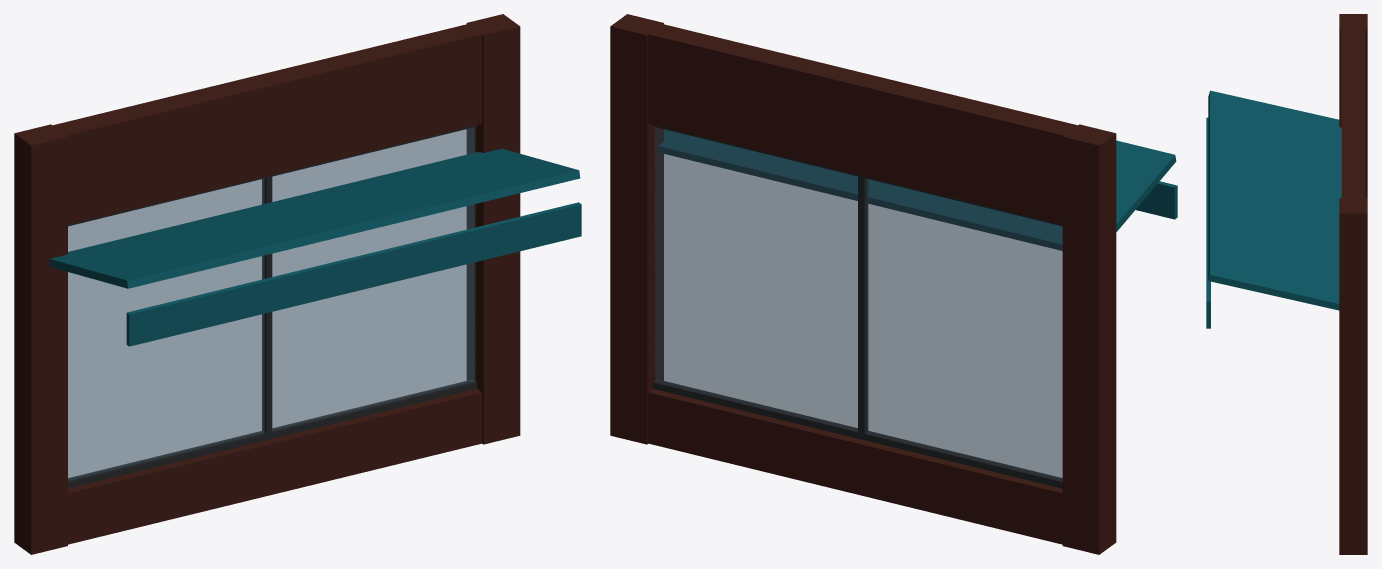
The model's file is KIT_Storefront_4m_BrickDark_Teal.glb.
3 views of the same model, side by side, from view 1: azimuth 30°, elevation 25°; view 2: azimuth 150°, elevation 25°; view 3: azimuth 270°, elevation 25° (orthographic). The views are drawn at different scales.
Visible parts, largest first — view 1: KIT_Storefront_4m_BrickDark_Teal; view 2: KIT_Storefront_4m_BrickDark_Teal; view 3: KIT_Storefront_4m_BrickDark_Teal.
Part boxes in pixels (x1,y1,x2,y2): KIT_Storefront_4m_BrickDark_Teal: [14, 14, 581, 554]; KIT_Storefront_4m_BrickDark_Teal: [610, 14, 1177, 554]; KIT_Storefront_4m_BrickDark_Teal: [1206, 14, 1367, 554].
Bounding box in the file's own units: 4 × 3.2 × 1.37.
